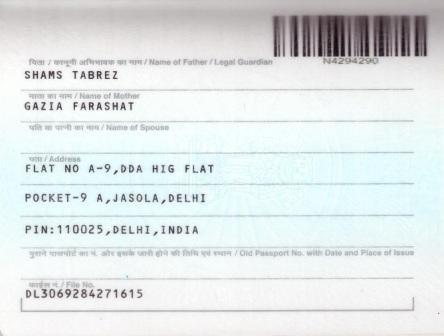File_no: (23, 288, 146, 301)
address: (15, 160, 375, 246)
father_name: (17, 66, 141, 84)
mother_name: (21, 98, 135, 114)
passport_no: (321, 54, 382, 69)
